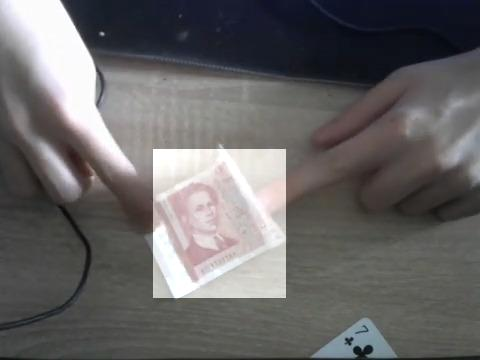5leva: (153, 149, 286, 298)
